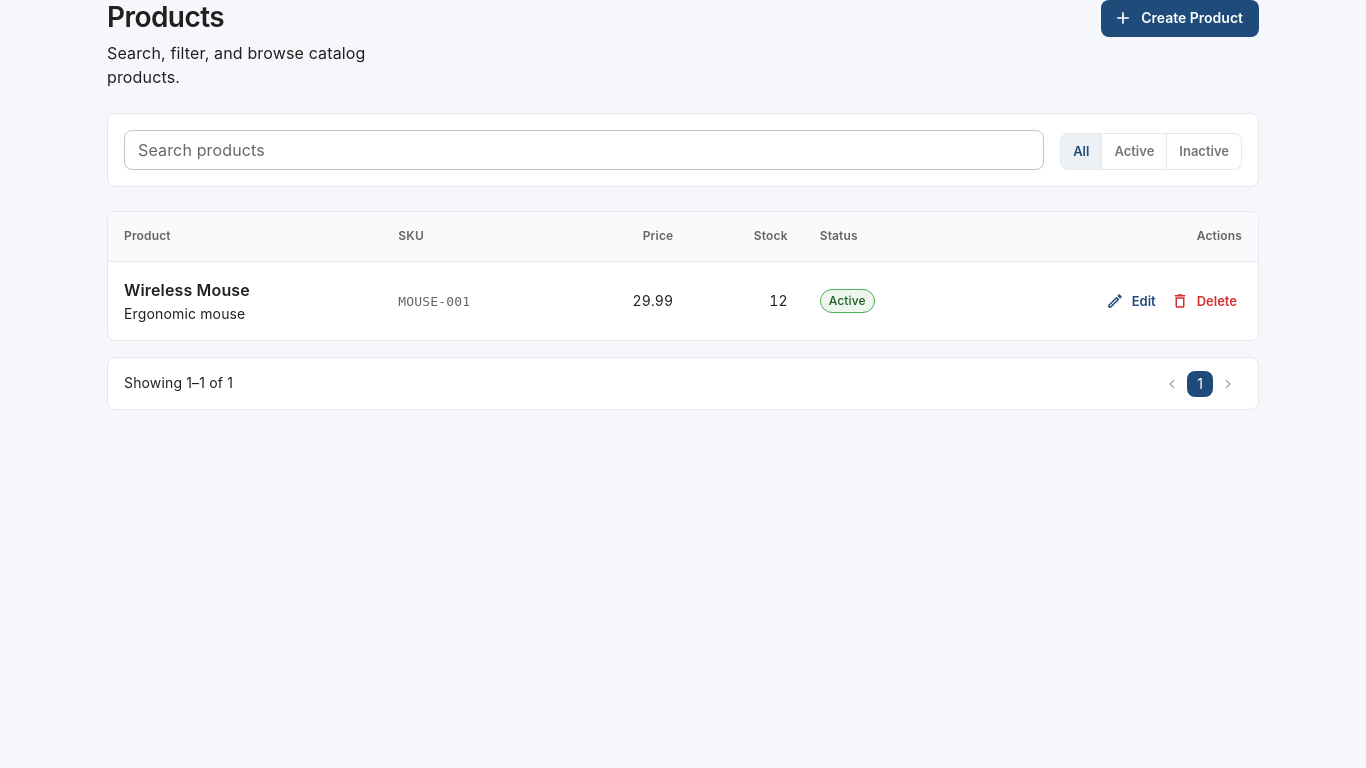
ProductsPage › opens Edit from the Product table action
Check: the text "Wireless Mouse" is shown, box left=124, top=280, right=250, bottom=300
Click the button with aria-label "Edit Wireless Mouse" at (1132,301), box left=1100, top=286, right=1164, bottom=316
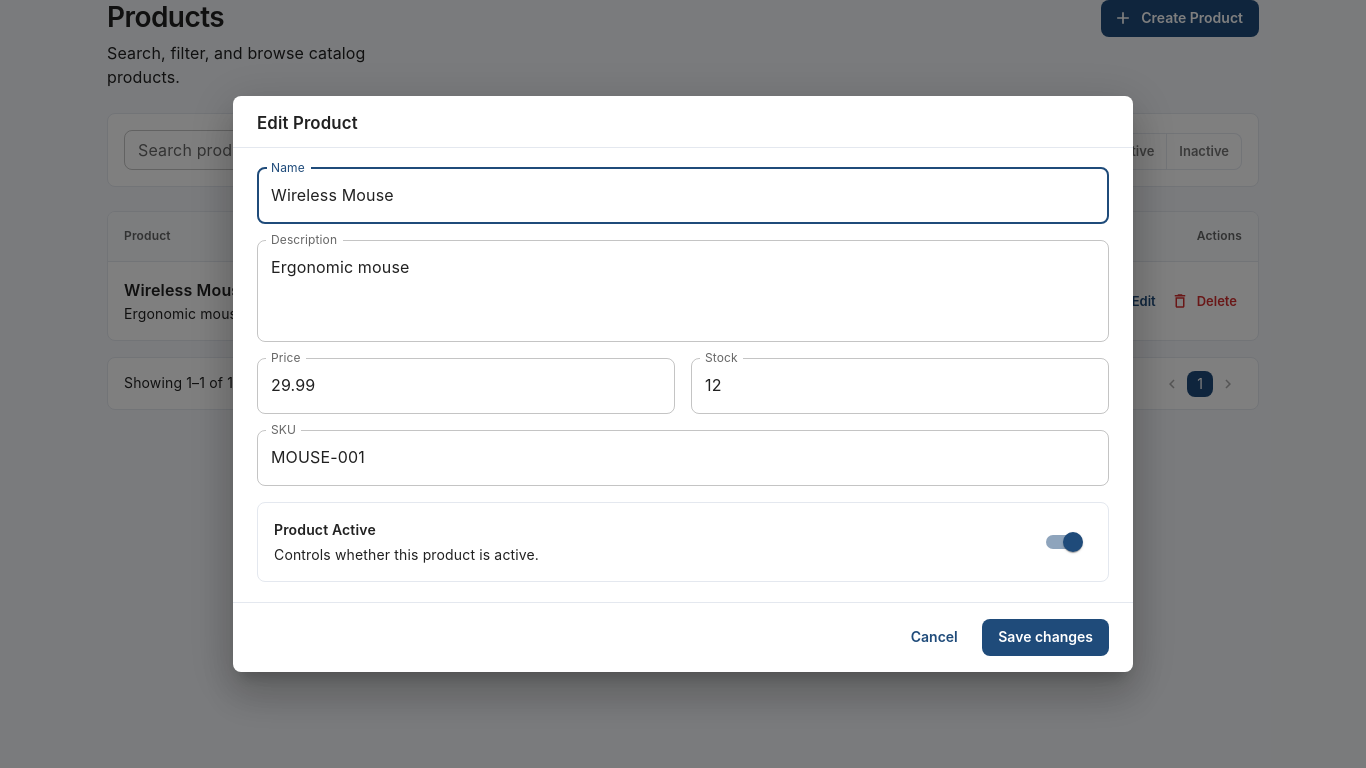
Check: the heading "Edit Product" is shown, box left=257, top=113, right=358, bottom=133
Check: the field labelled "Name" holds "Wireless Mouse", box left=257, top=168, right=1109, bottom=224
Check: the field labelled "SKU" holds "MOUSE-001", box left=257, top=430, right=1109, bottom=486
